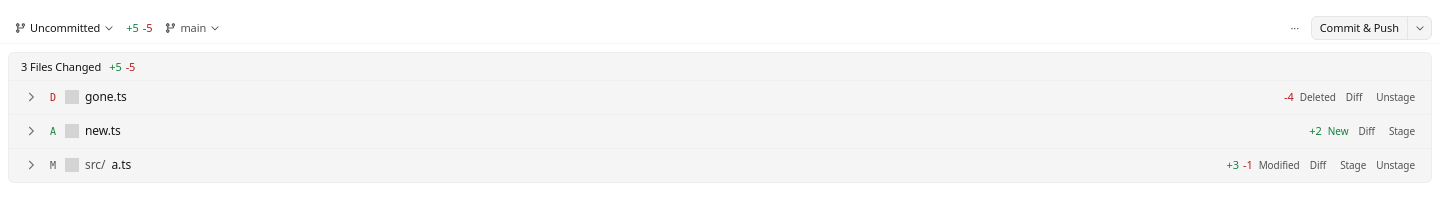
ChangesPanel › includes deleted files in Staged scope and excludes untracked
This screenshot has width=1440, height=216.
Click the button "Uncommitted". click: {"x": 64, "y": 28}
box: [8,16,120,40]
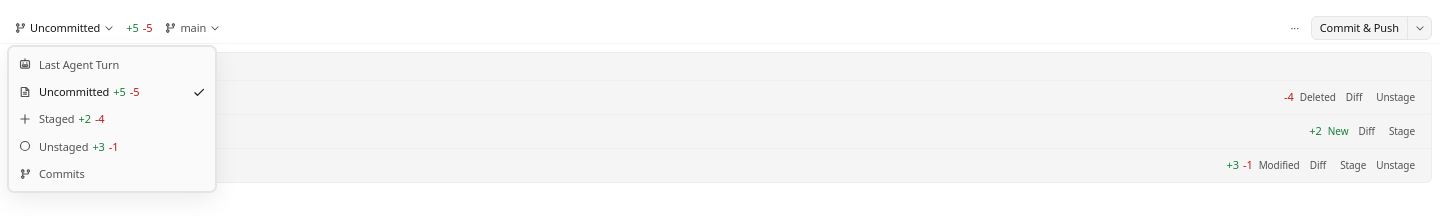
Click the menu item "Staged+2-4". click: {"x": 112, "y": 119}
box: [9,105,215,133]
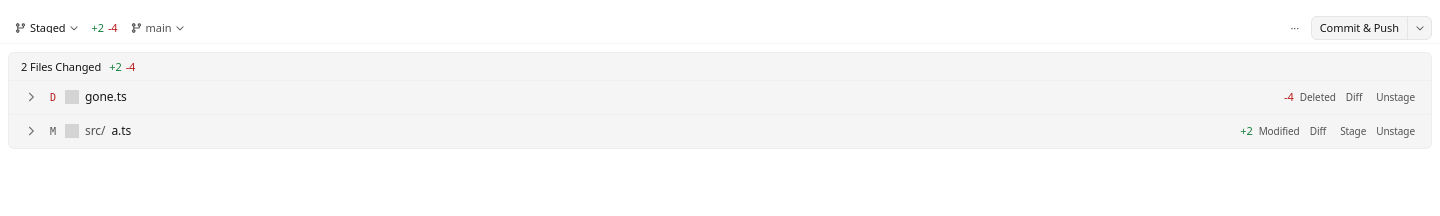
Expected: the text "gone.ts" is shown, [85,89,127,105]
Now the button "new.ts" is gone
